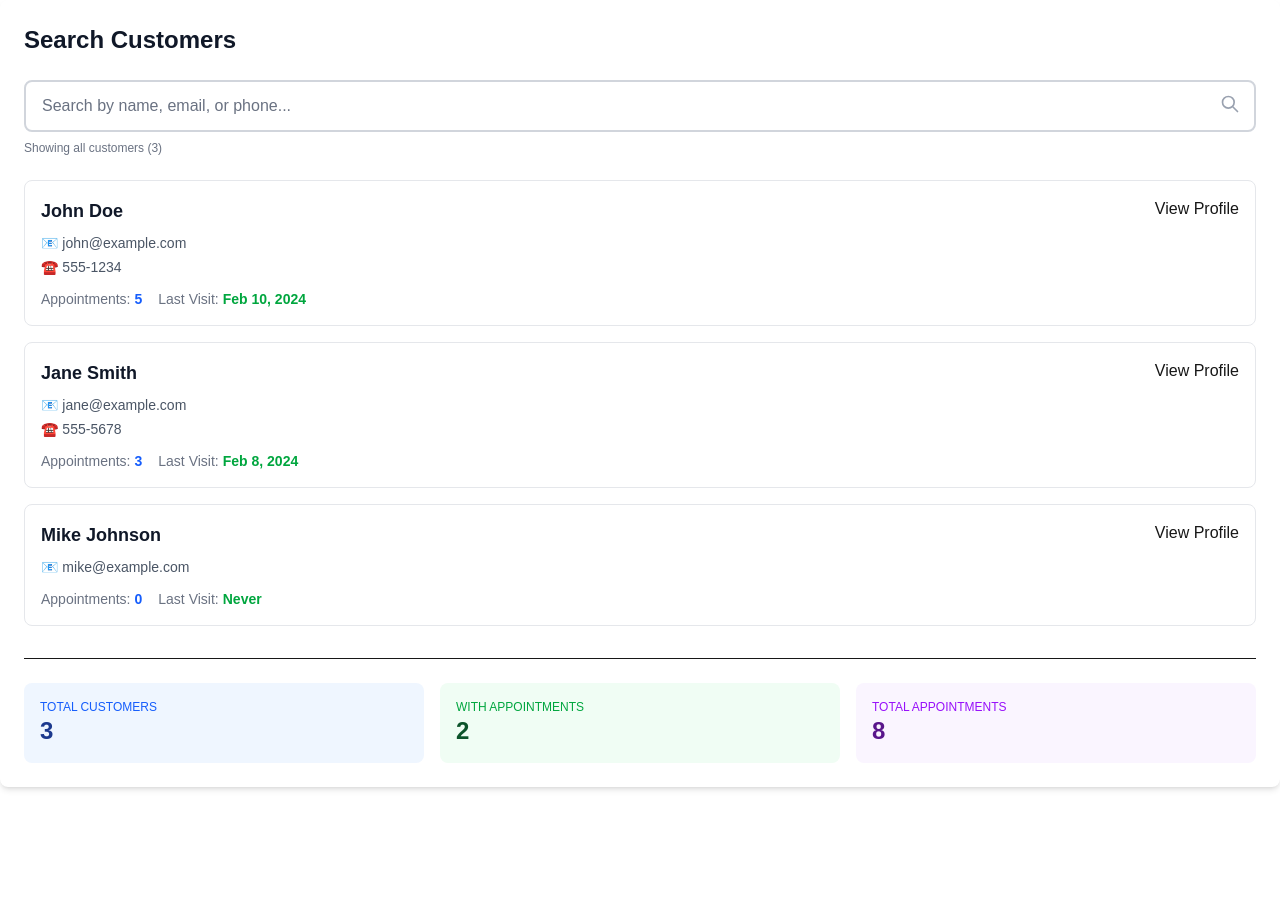
Test: CustomerSearch Component › filters customers by name
This screenshot has width=1280, height=900.
In the field with placeholder "Search by name, email, or phone...": [640, 106] box [24,80,1256,132], type "John"
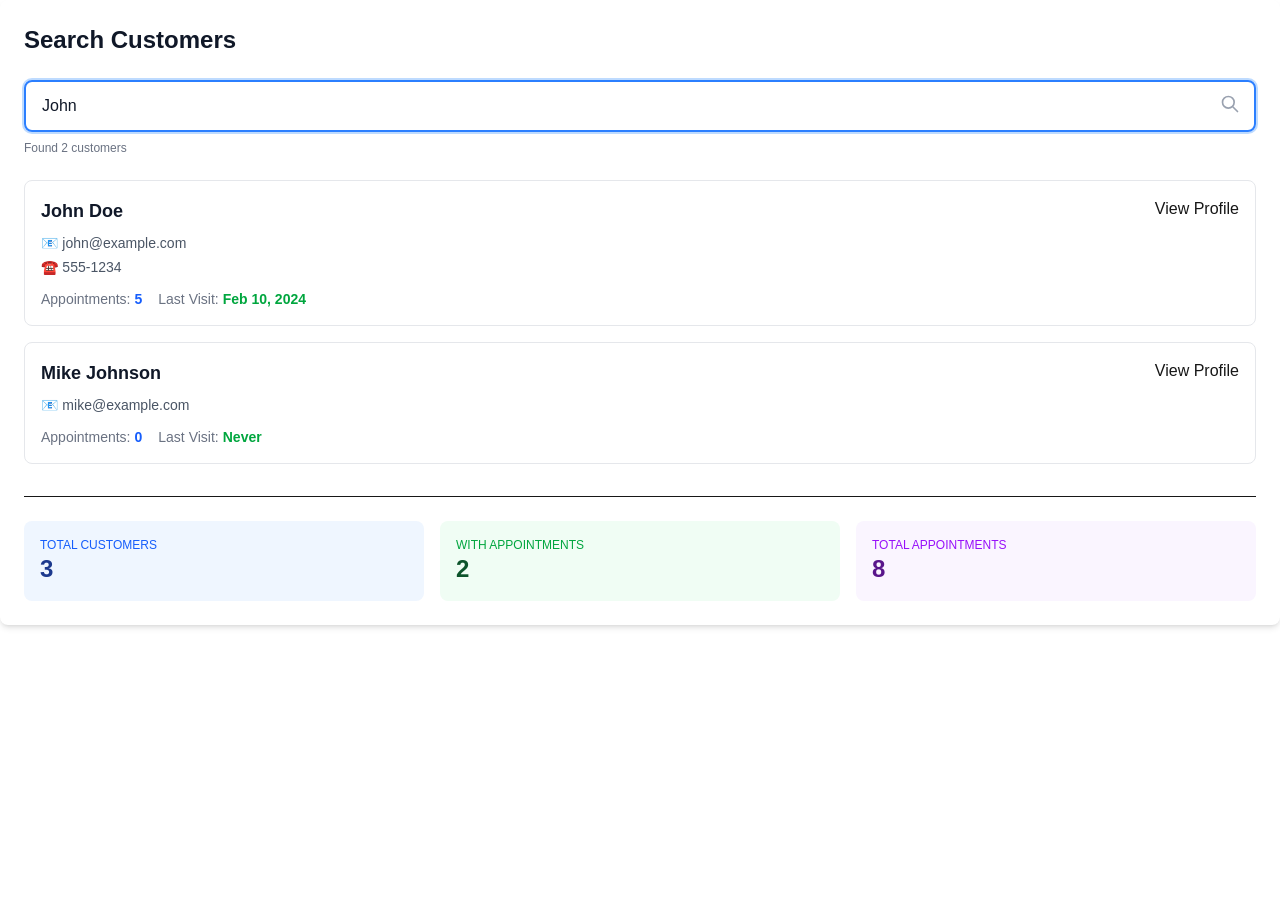
Expected: the heading "John Doe" is shown, [41,201,123,221]
Expected: the heading "Jane Smith" is gone
